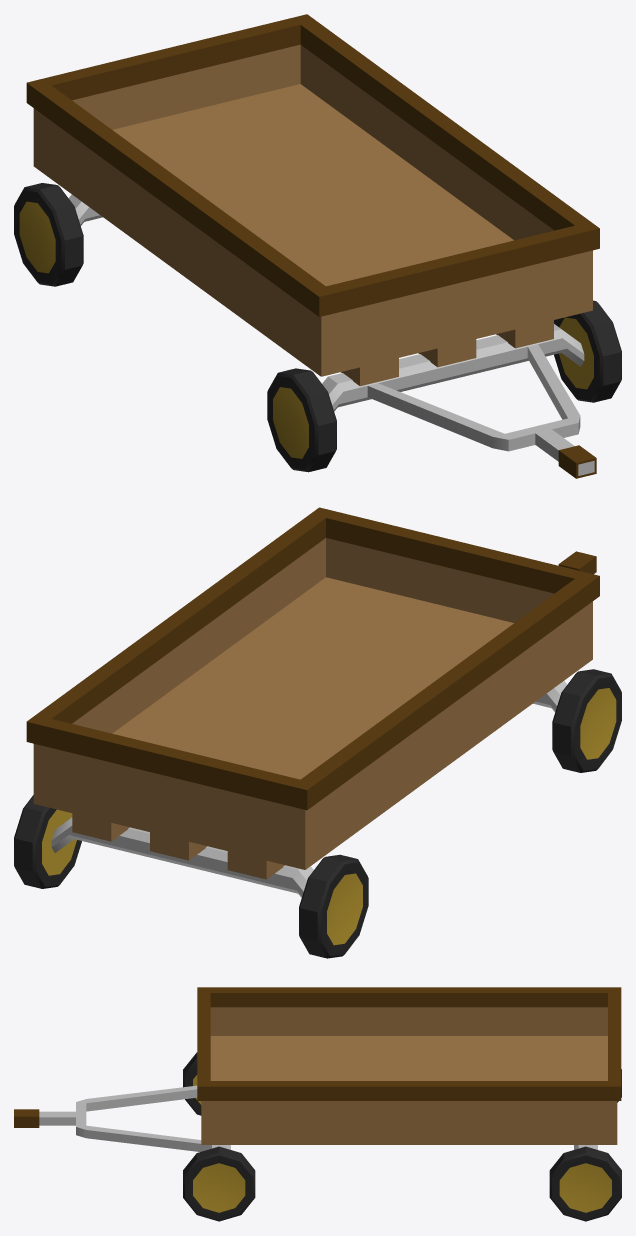
Rendered from Wagon_01.fbx.
3 views of the same model, one above another, from view 1: azimuth 30°, elevation 25°; view 2: azimuth 150°, elevation 25°; view 3: azimuth 270°, elevation 25° (orthographic). The views are drawn at different scales.
Visible parts, largest first — view 1: pCylinder5; view 2: pCylinder5; view 3: pCylinder5.
Part boxes in pixels (box(x1,y1,x2,y2)): pCylinder5: box(14, 14, 621, 478); pCylinder5: box(14, 507, 621, 958); pCylinder5: box(14, 987, 621, 1221).
Size of the model in its own units: 136 by 76.54 by 321.
